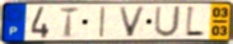4: (30, 6, 51, 40)
I: (98, 5, 107, 39)
L: (184, 5, 206, 39)
T: (59, 6, 82, 39)
U: (153, 5, 183, 39)
V: (117, 6, 148, 39)
